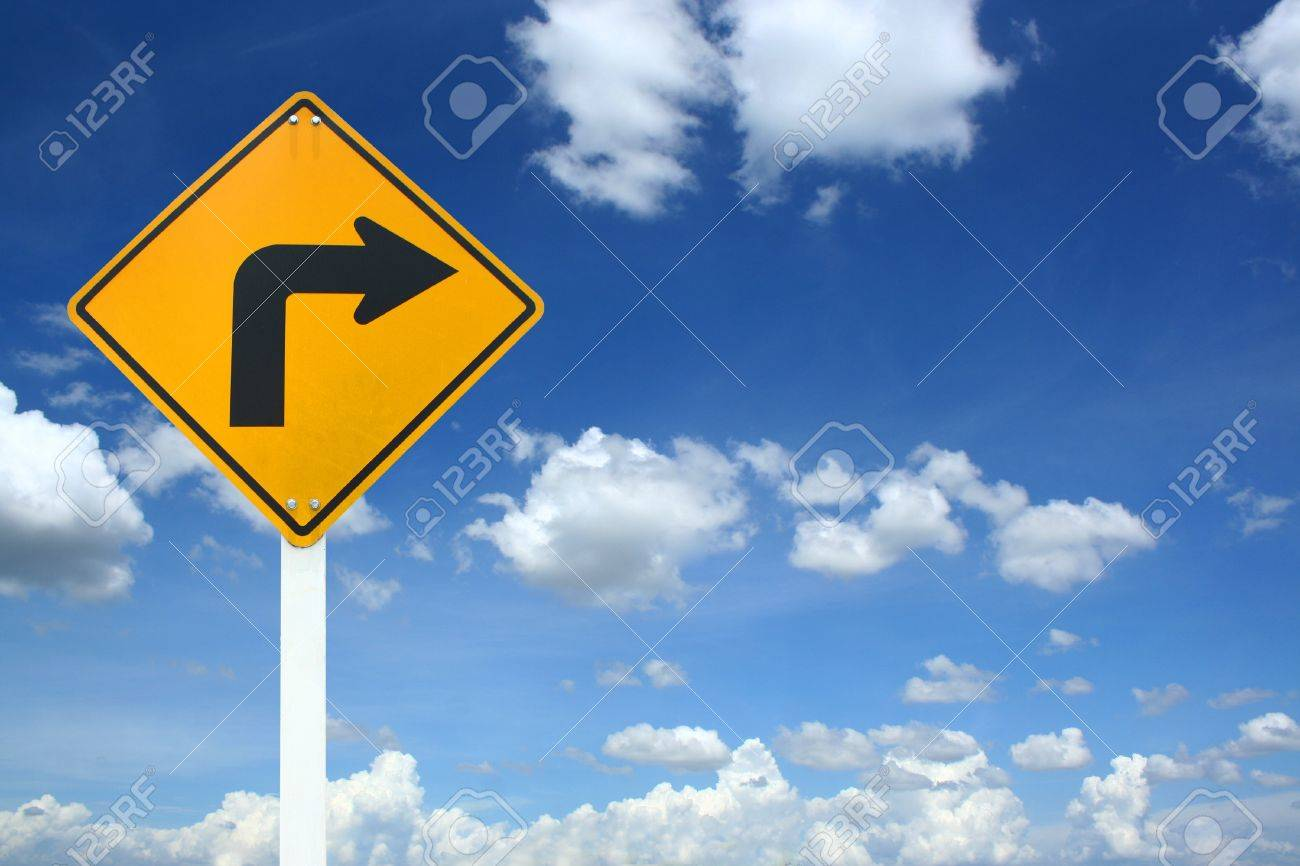right: (62, 90, 545, 551)
